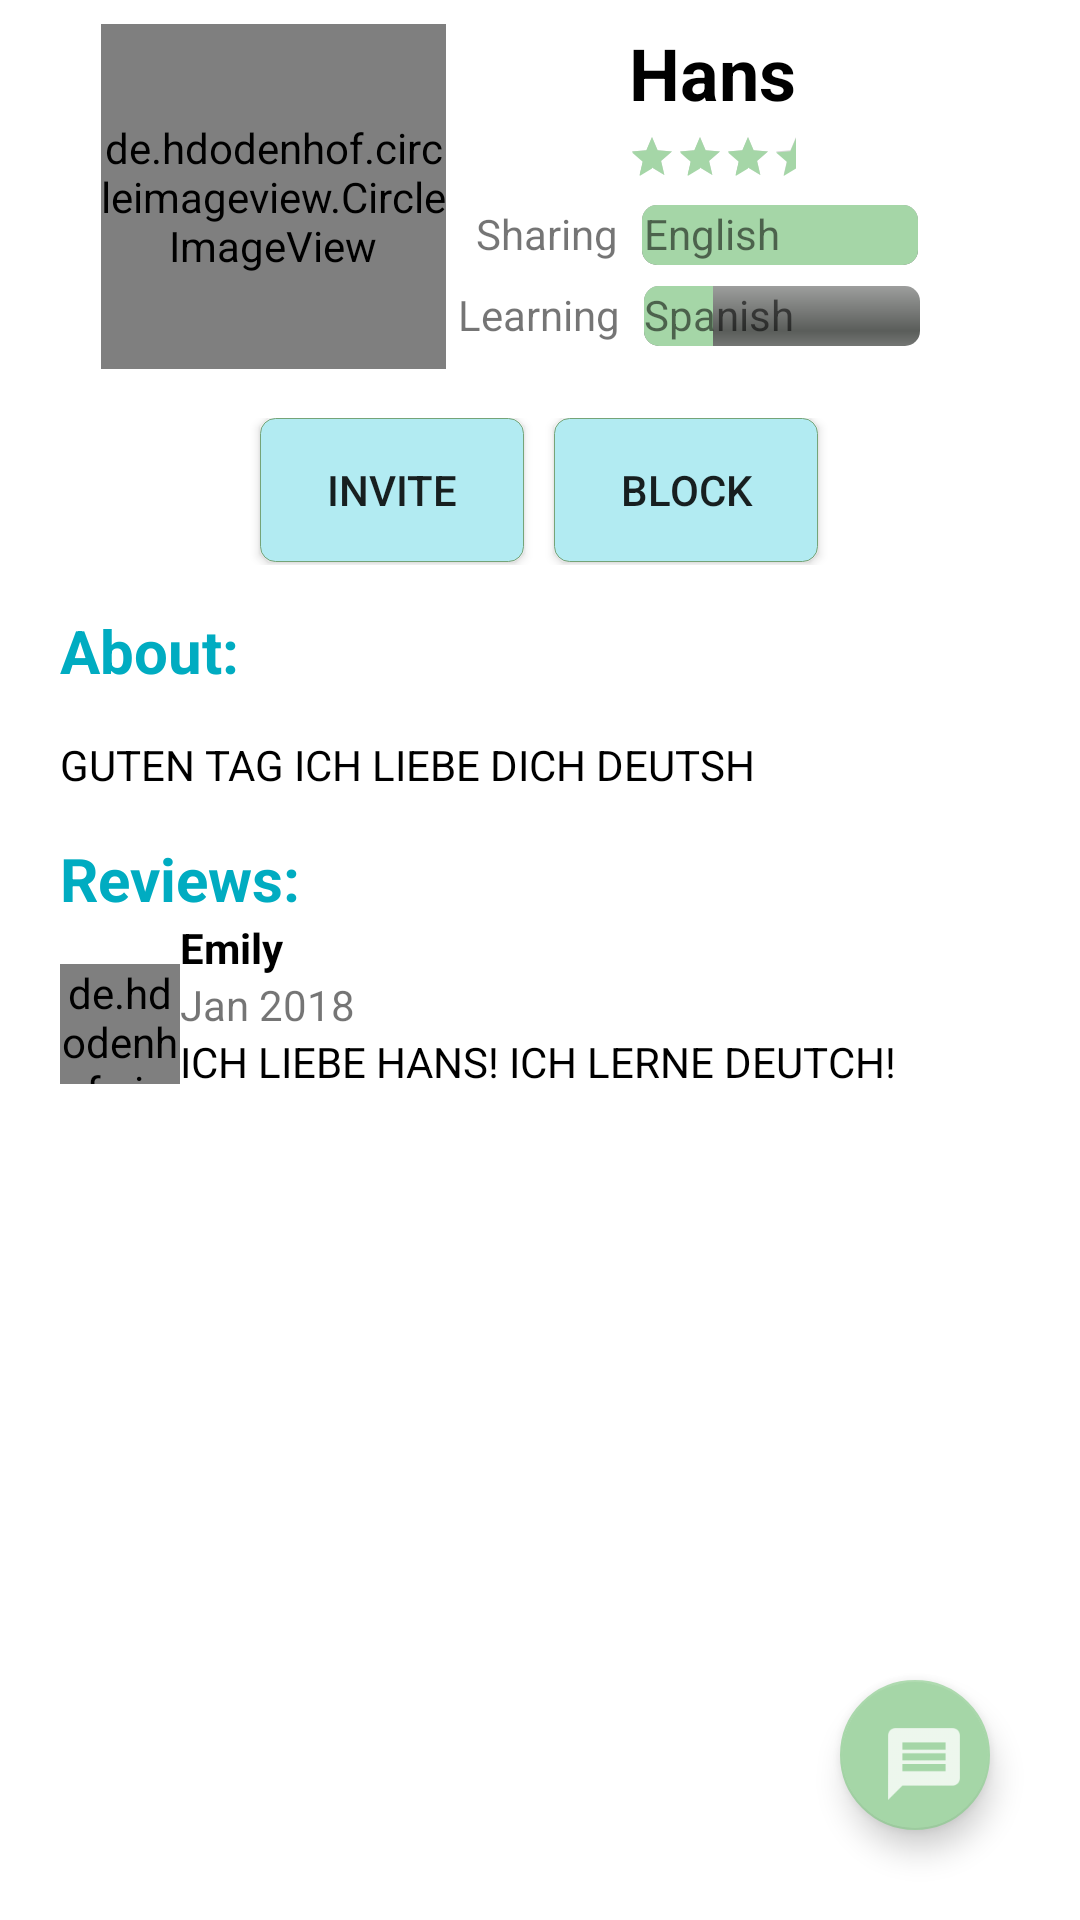

Named icons in this screenshot (1080px×1920px) and their centers, (x,y):
message: (915,1755)
